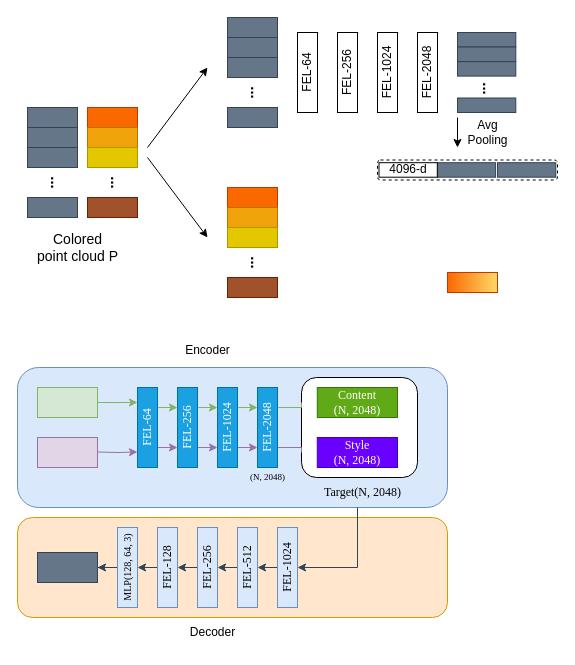
Some shapes in this 575 by 665 pixel diagram are drawn without their labels. Each missing label, with the centre of its shape:
"Content (N, 6)" belongs at point 67,402.
"Style (N, 6)" belongs at point 67,452.
"Target (N, 6)" belongs at point 67,567.
